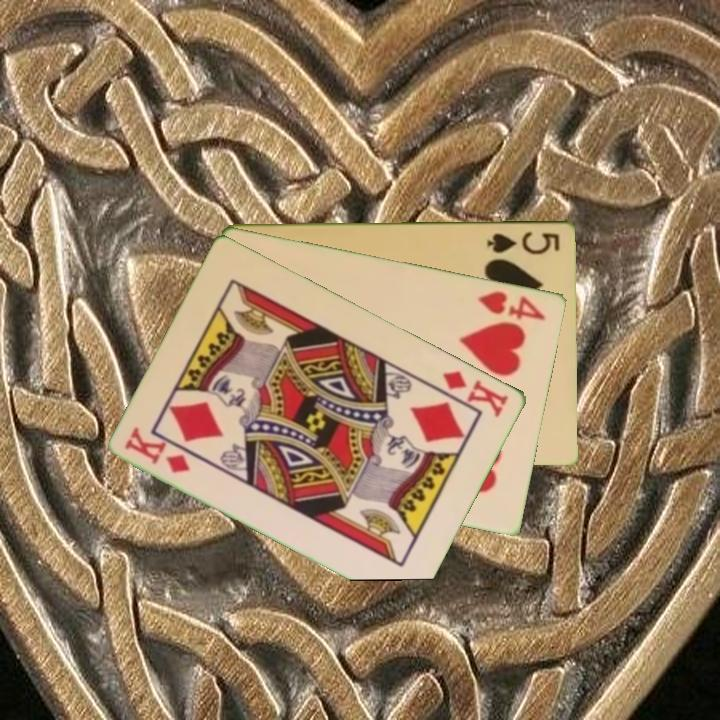4h: (475, 287, 549, 323)
5s: (484, 227, 563, 256)
Kd: (439, 366, 512, 420), (122, 424, 194, 476)
